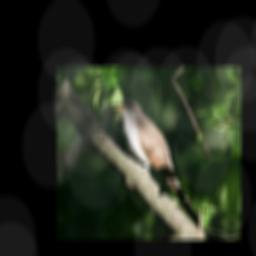Cuckoo: (104, 97, 212, 230)
